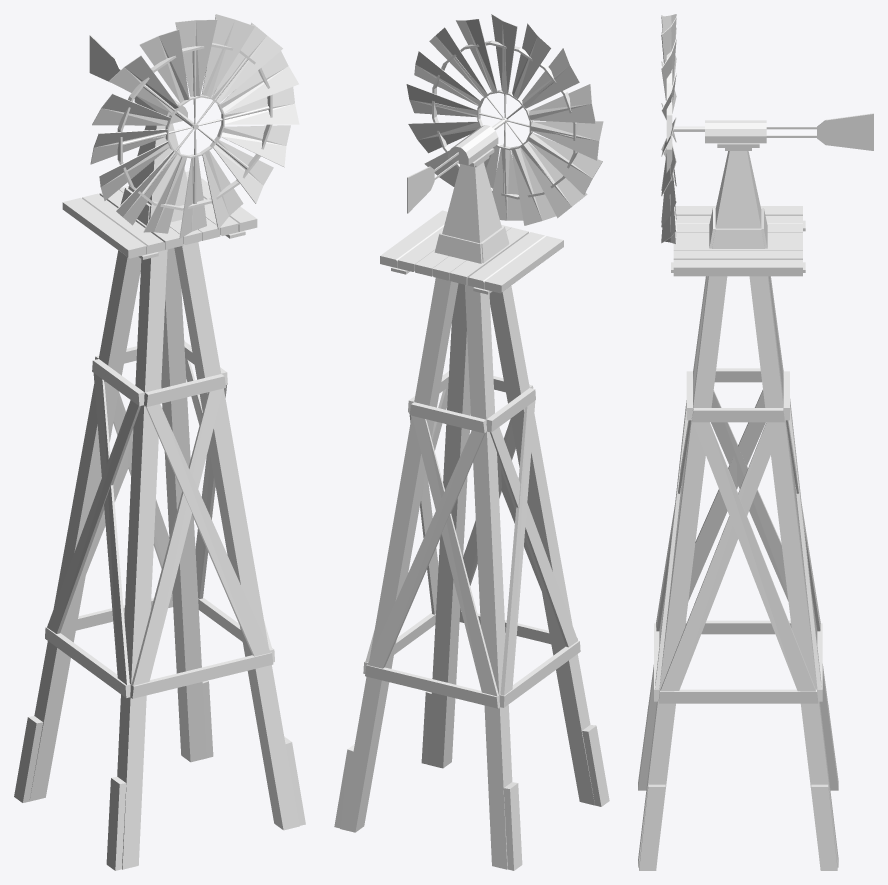
The model's file is Bld_Windmill_01.glb.
3 renders of one model, left to right at view 1: azimuth 30°, elevation 25°; view 2: azimuth 150°, elevation 25°; view 3: azimuth 270°, elevation 25°, orthographic. The views are drawn at different scales.
Parts seen in each view (by area): view 1: Bld_Windmill_01, Bld_Windmill_Fan_01, Bld_Windmill_Middle_01; view 2: Bld_Windmill_01, Bld_Windmill_Fan_01, Bld_Windmill_Middle_01; view 3: Bld_Windmill_01, Bld_Windmill_Middle_01, Bld_Windmill_Fan_01.
Part boxes in pixels (x1,y1,x2,y2): Bld_Windmill_01: (14, 123, 305, 870); Bld_Windmill_Fan_01: (90, 14, 299, 238); Bld_Windmill_Middle_01: (89, 34, 198, 129); Bld_Windmill_01: (334, 162, 609, 870); Bld_Windmill_Fan_01: (406, 14, 603, 225); Bld_Windmill_Middle_01: (407, 117, 508, 213); Bld_Windmill_01: (638, 151, 838, 870); Bld_Windmill_Middle_01: (673, 113, 873, 150); Bld_Windmill_Fan_01: (661, 14, 676, 244).
Bounding box in the file's own units: 2.29 × 8.82 × 2.36.
1 material, 1 textured.
